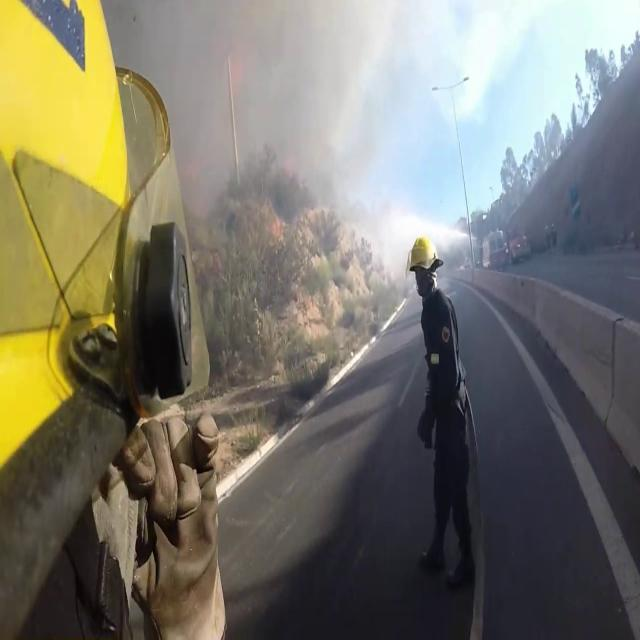Smoke: (141, 0, 417, 292)
